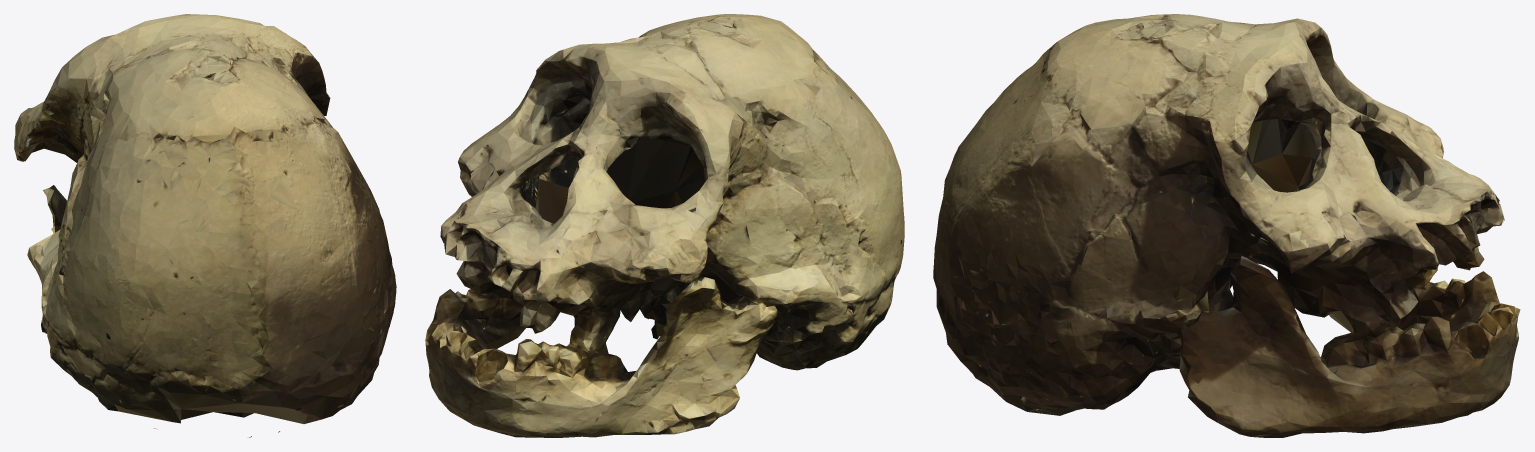
The model's file is skull.obj.
3 views of the same model, side by side, from view 1: azimuth 30°, elevation 25°; view 2: azimuth 150°, elevation 25°; view 3: azimuth 270°, elevation 25° (orthographic). The views are drawn at different scales.
Visible parts, largest first — view 1: skull; view 2: skull; view 3: skull.
Part boxes in pixels (box(x1,y1,x2,y2)): skull: box(14, 14, 396, 437); skull: box(425, 14, 904, 437); skull: box(933, 14, 1520, 437).
Size of the model in its own units: 15.78 by 14.65 by 21.8.
